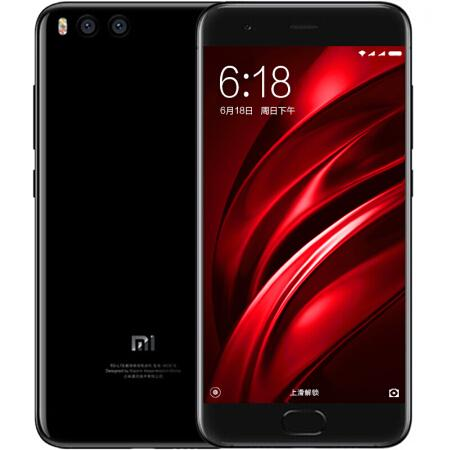phone: (193, 4, 412, 448), (28, 4, 198, 448)
